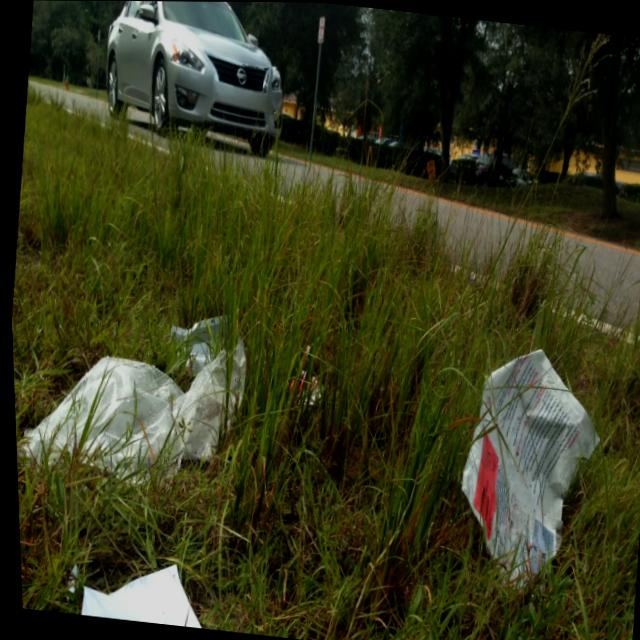Paper: (435, 332, 617, 607), (55, 541, 220, 630)
Plastic: (8, 281, 256, 505)
Trash -everything else-: (269, 332, 330, 427)
